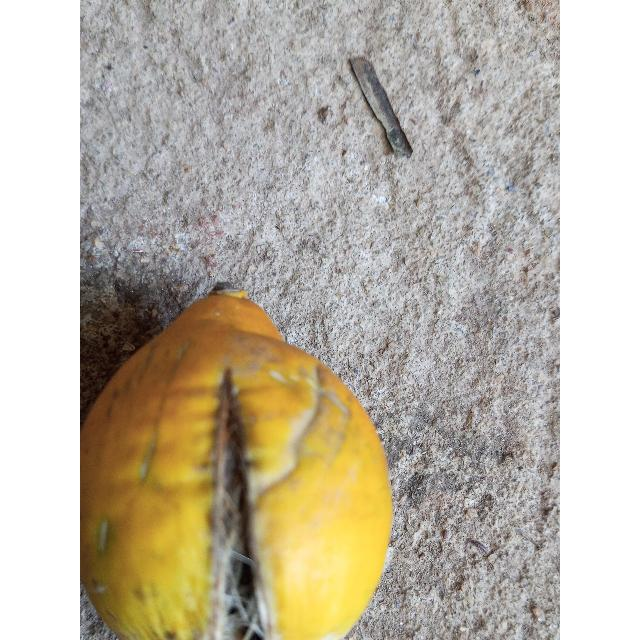damaged: (80, 290, 393, 640)
